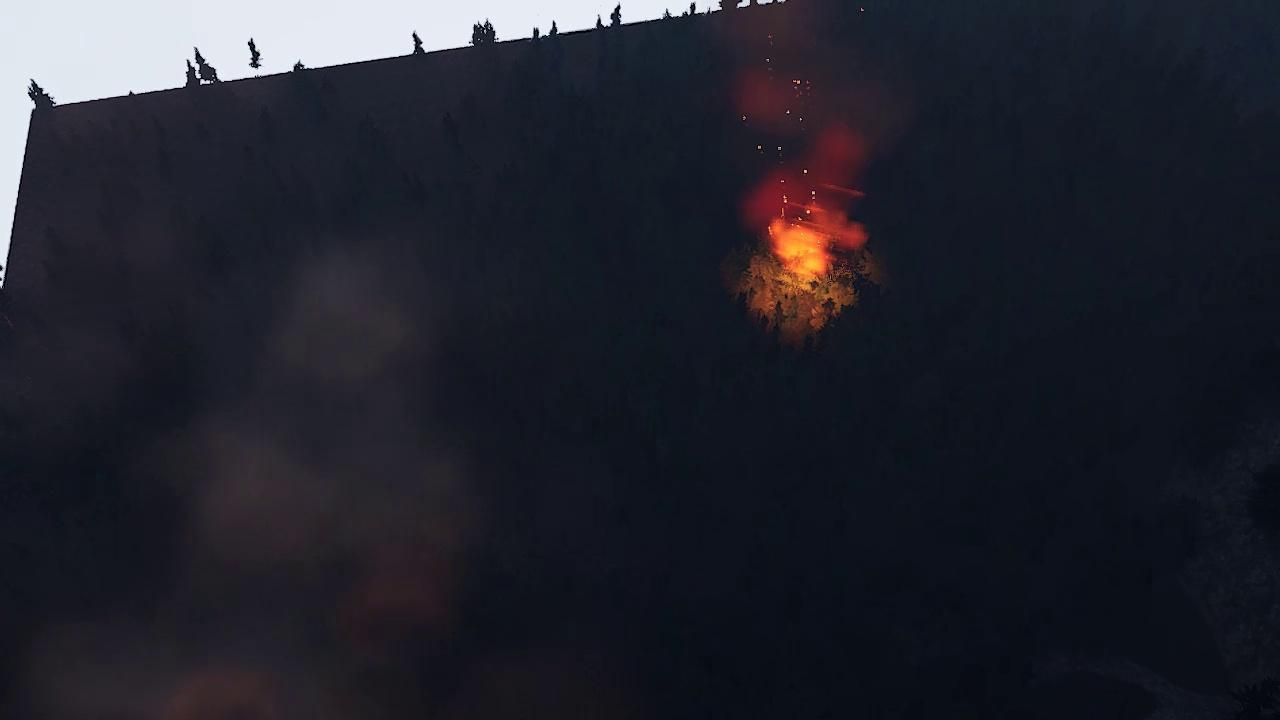fire: (748, 148, 866, 283)
smoke: (9, 224, 545, 720), (716, 0, 914, 236)
